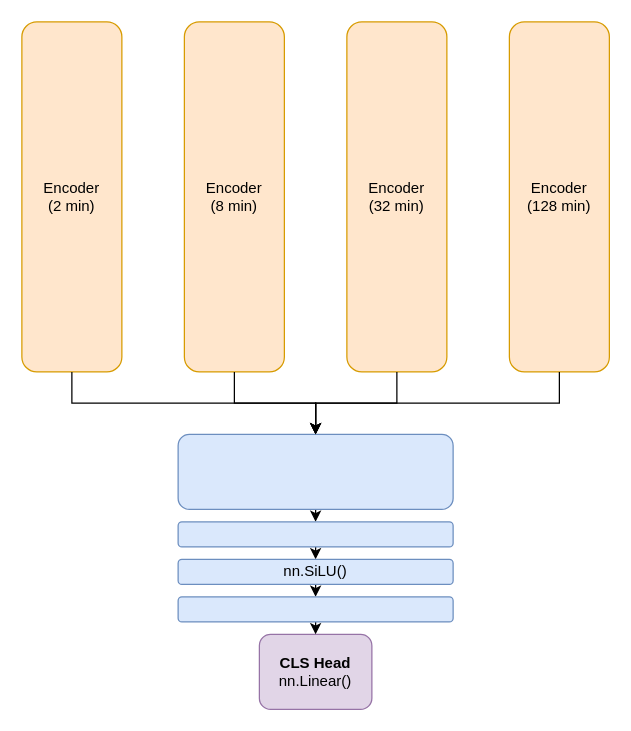
This 631x731 diagram has some shape labels left out. The shapes that lost their labels are listed below. From the top down, each one's centre as x and y in pixels, then its label:
At pixel 315 471: "Fusion Layer nn.Linear()".
At pixel 315 534: "nn.LayerNorm()".
At pixel 315 609: "nn.Dropout()".
